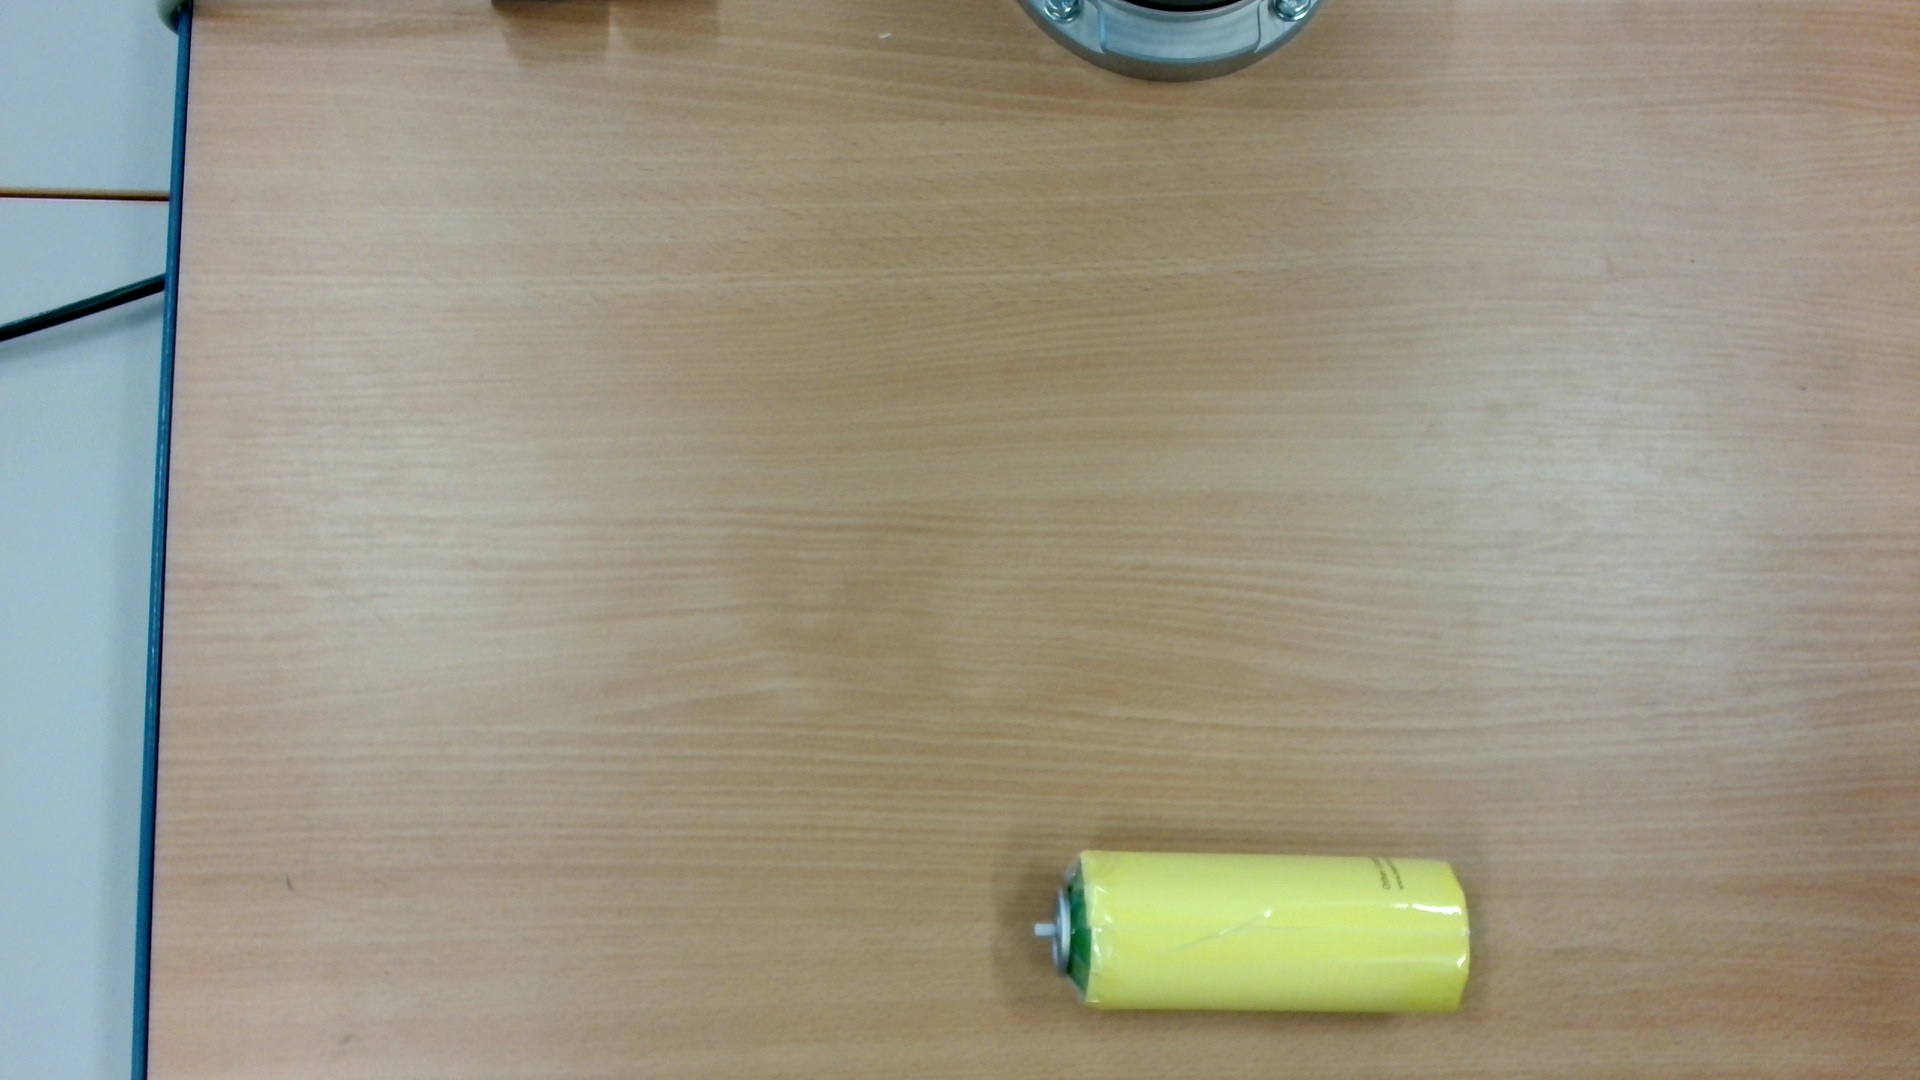Cylinder: (998, 832, 1495, 1036)
